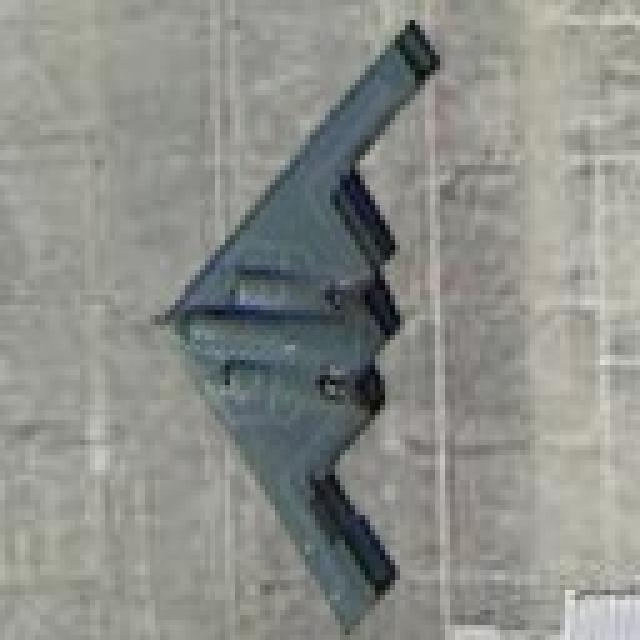B-2_TopDown: (150, 15, 440, 635)
